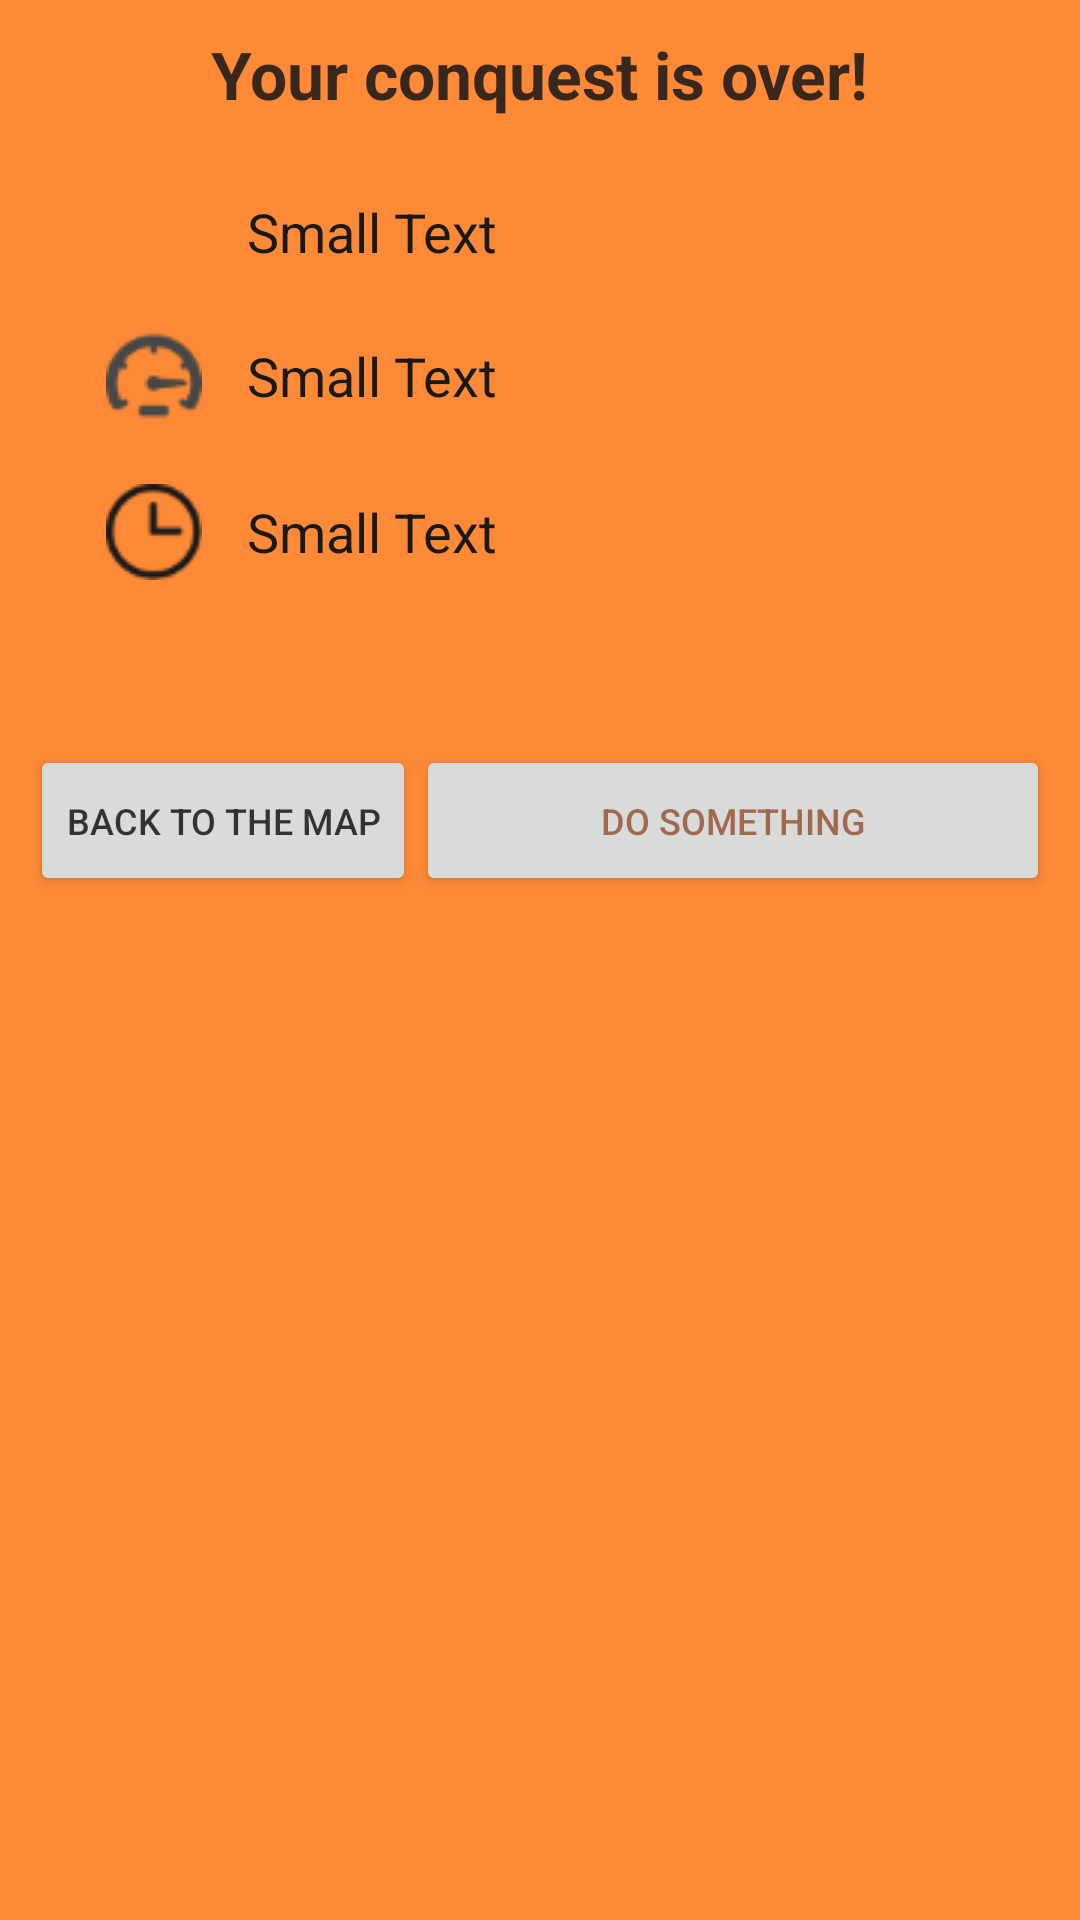

Named icons in this screenshot (1080px x 1920px) and their centers, point (x, y):
speed: point (154, 375)
time: point (154, 532)
